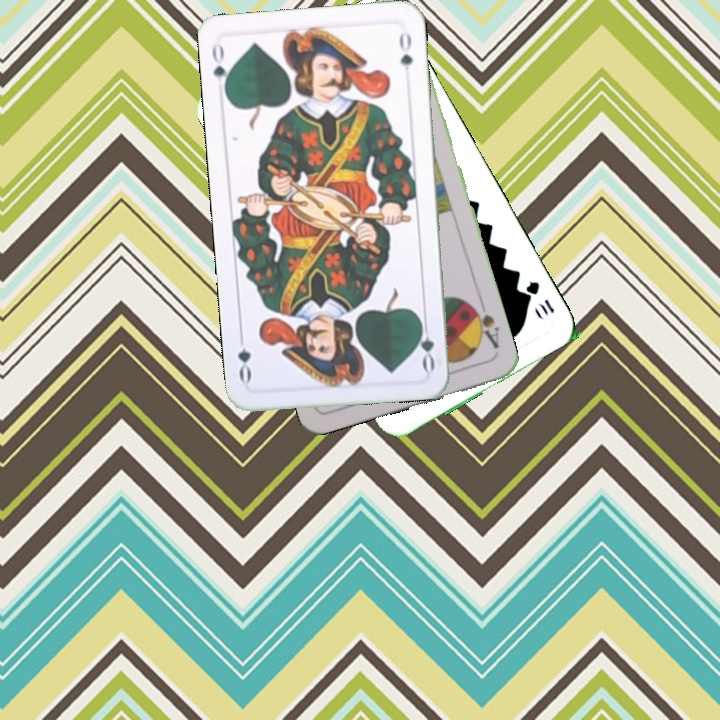G10: (521, 277, 557, 323)
GO: (207, 39, 234, 99), (414, 314, 437, 373)
SA: (466, 297, 502, 351)
